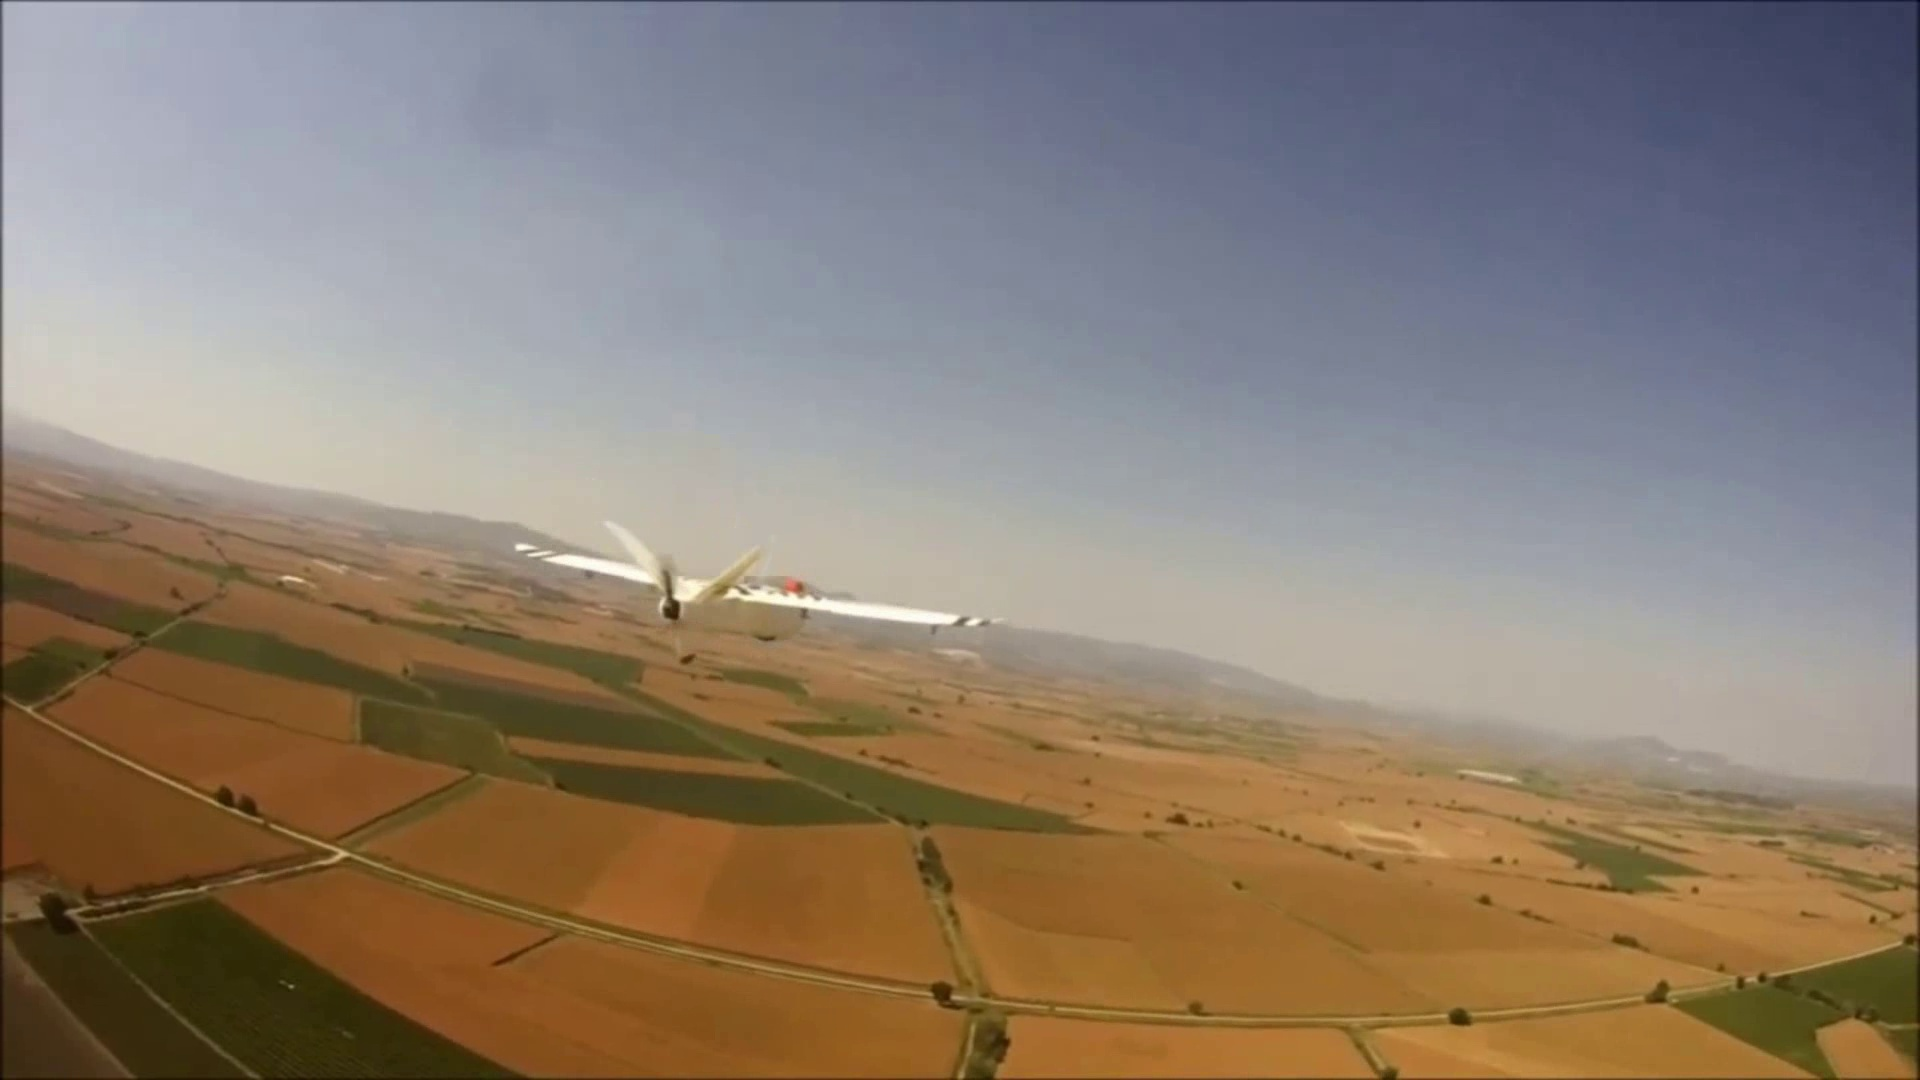airplane: (8, 404, 1791, 1075)
